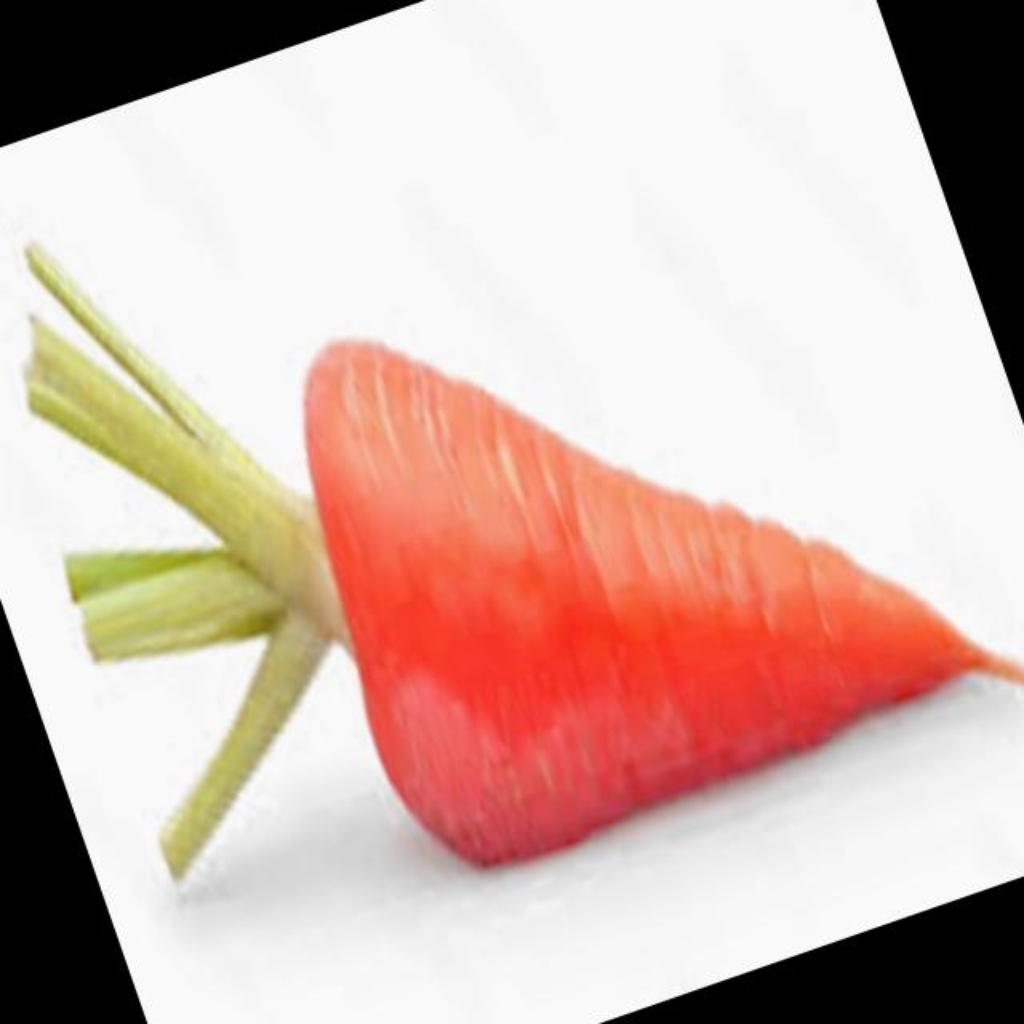carrot: (26, 248, 1024, 875)
